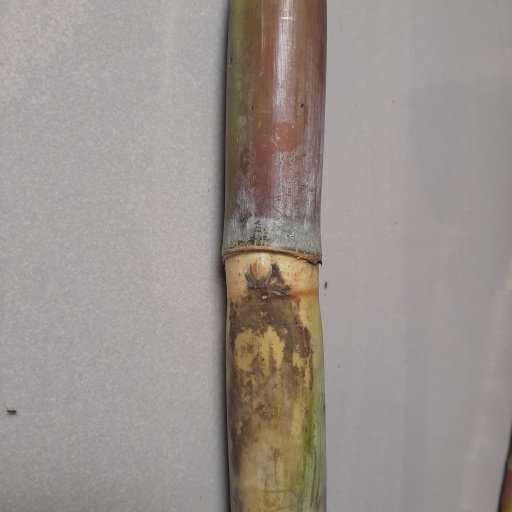Bud: (245, 257, 271, 287)
